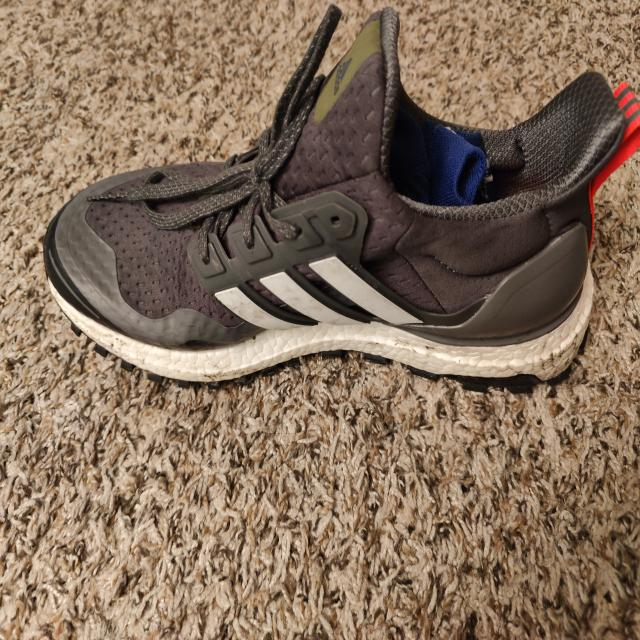black shoes: (53, 8, 638, 402)
